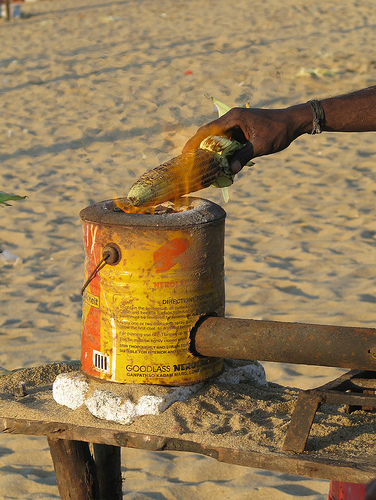corn: (126, 150, 221, 203)
